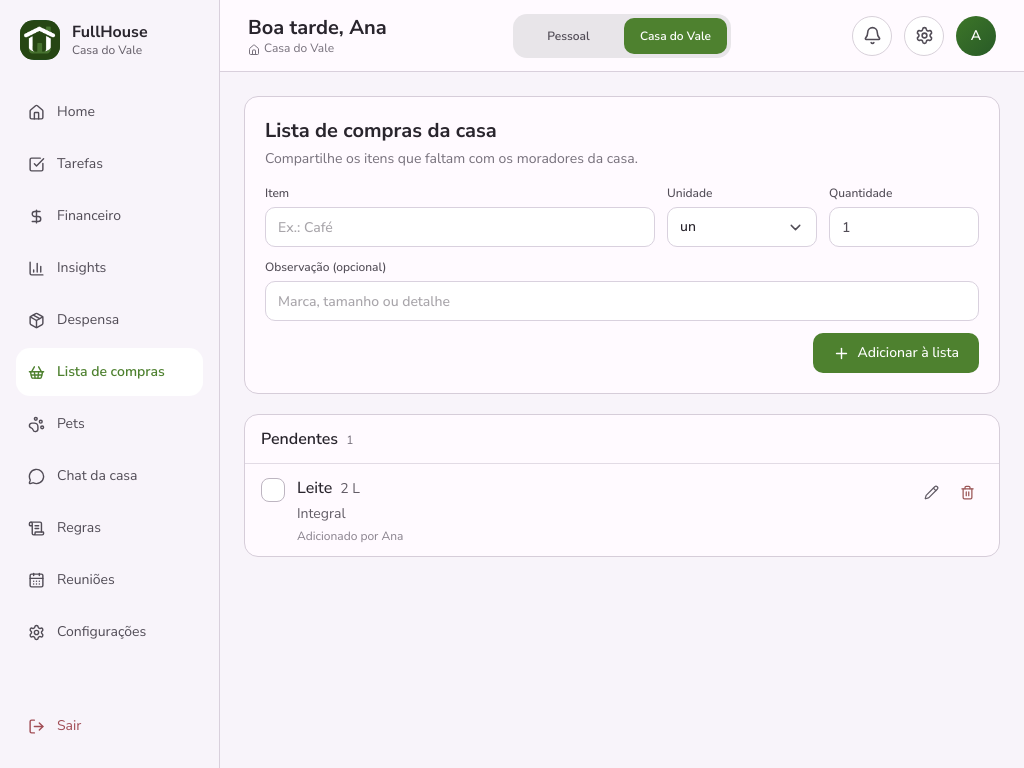
ShoppingListPage › reloads the current list after a stale status conflict
The width and height of the screenshot is (1024, 768).
Click the button named "Marcar Leite como comprado". click: (273, 490)
box: [261,478,285,502]
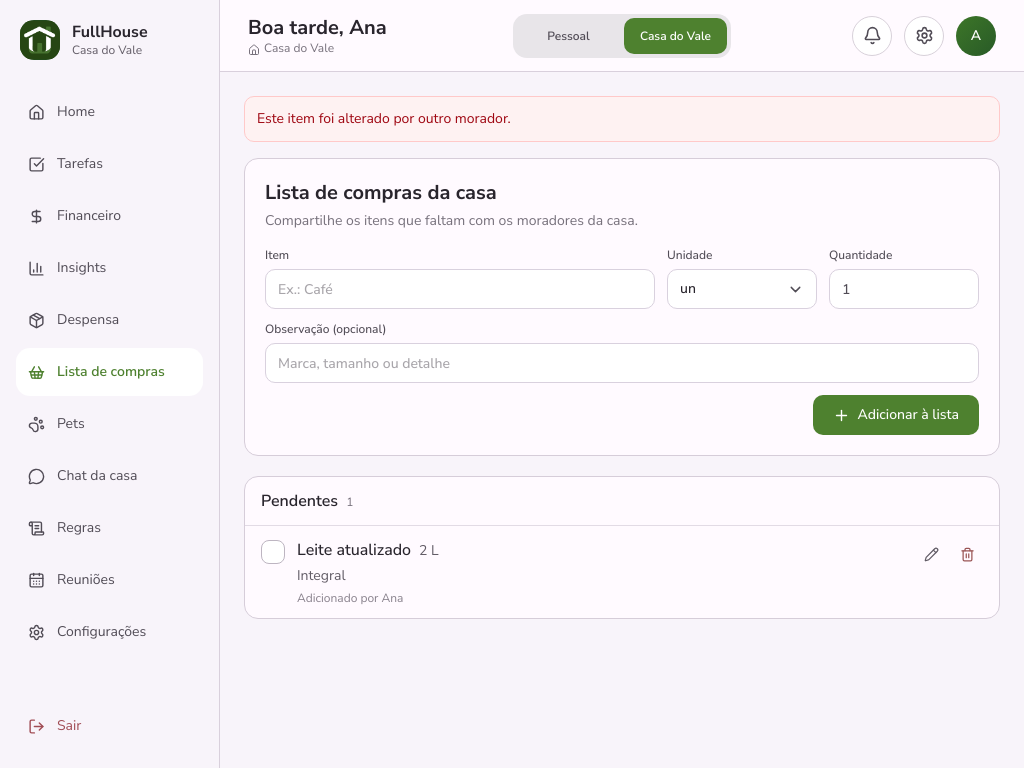
expect the text "Leite atualizado" is shown: met, box [297,538,411,562]
expect the text "Este item foi alterado por outro morador." is shown: met, box [257,109,511,129]
